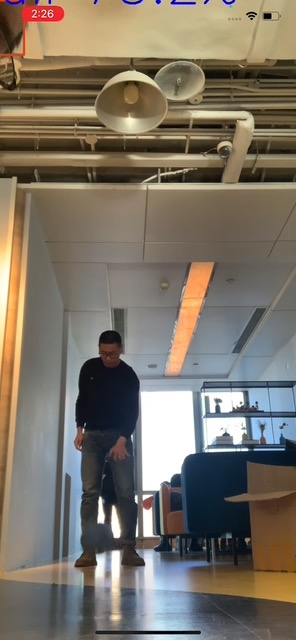ball: (80, 521, 114, 551)
